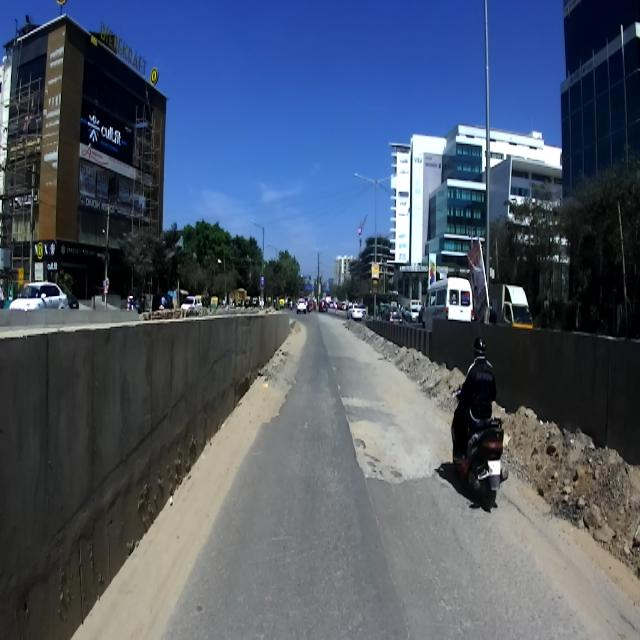motorcycle ahead at: (444, 413, 509, 502)
